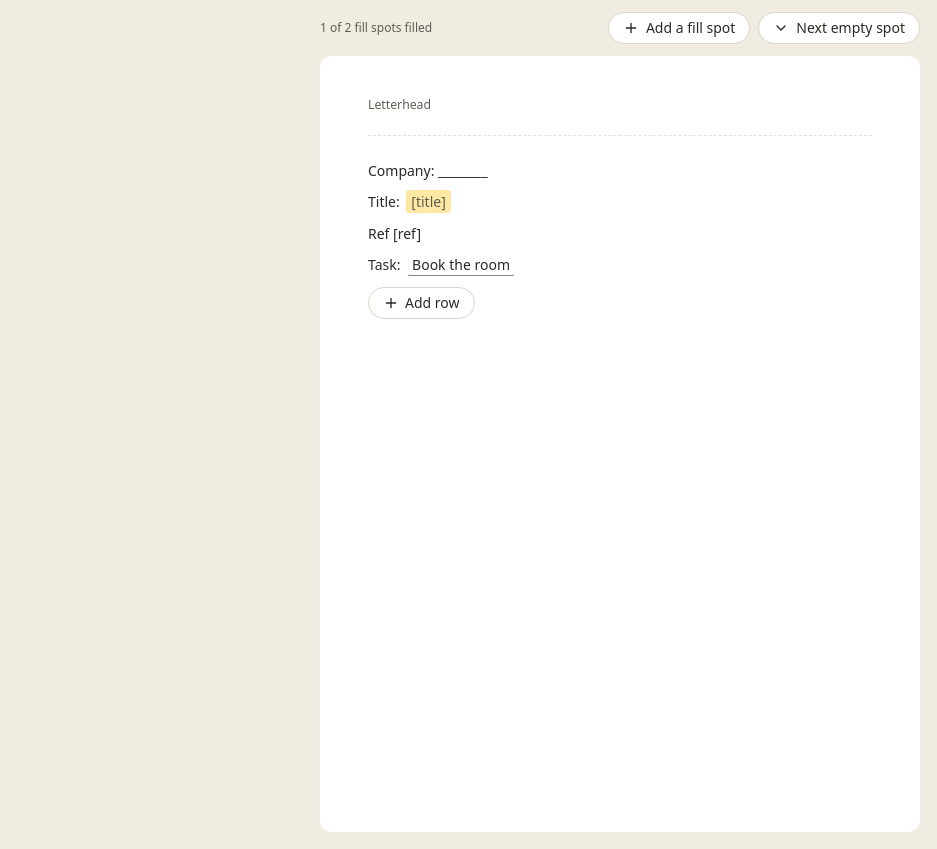
Scenario: DocumentPage: the menu on the page text › sends the point clicked, moved to the end of the word it is in
The width and height of the screenshot is (937, 849).
Right-click the text with class "document-page__text" showing "Company:" at (403, 171), box left=368, top=161, right=438, bottom=180
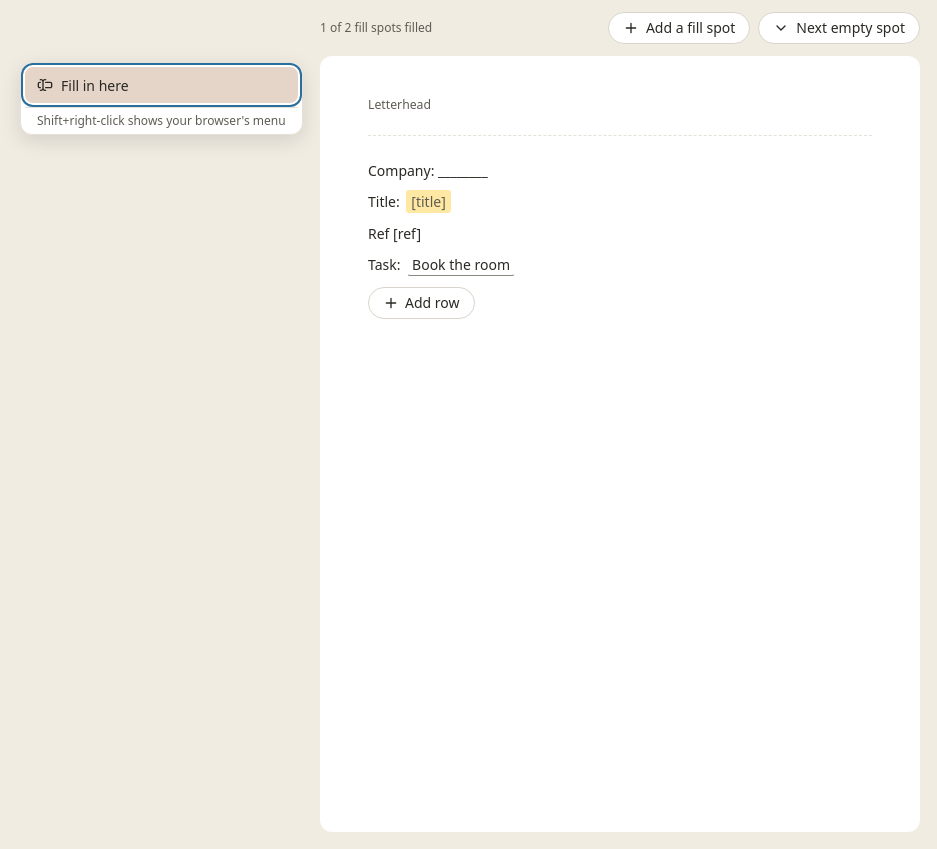
Click the menu item "Fill in here" at (95, 85), box left=25, top=67, right=298, bottom=103
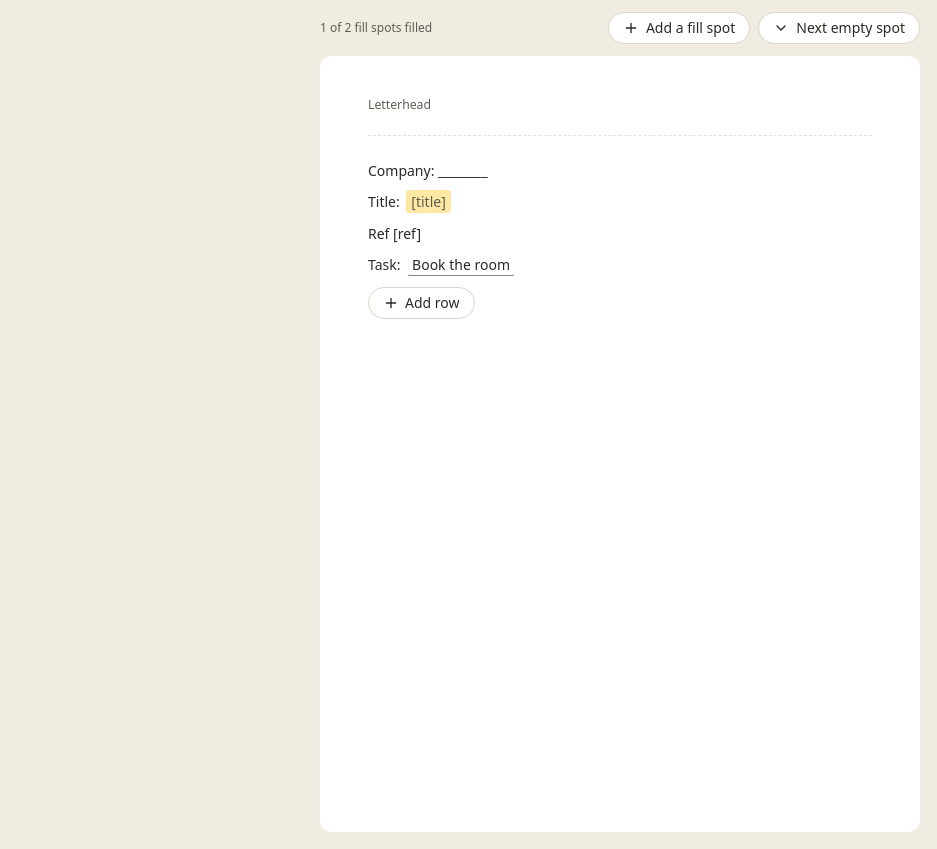
Now the element with class "spot-menu" is gone
